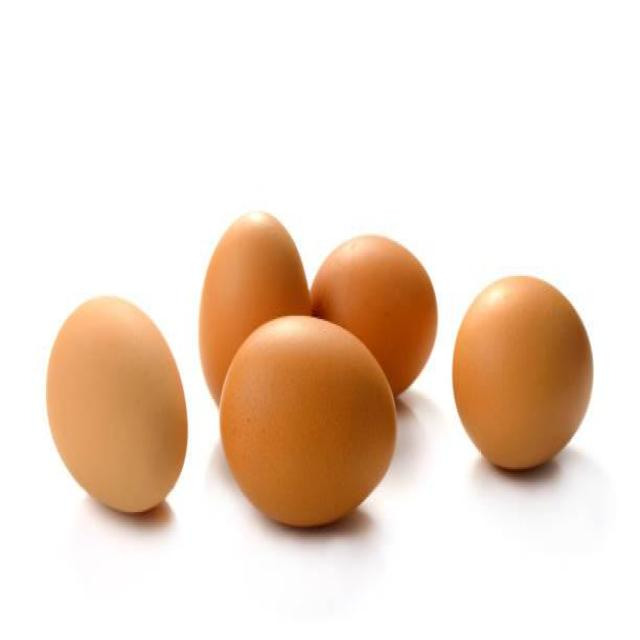Egg: (221, 316, 395, 525), (46, 298, 187, 512), (453, 276, 593, 469), (200, 213, 311, 404), (312, 234, 437, 396)
